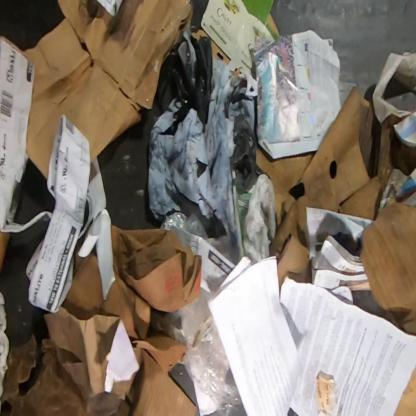cardboard: (24, 0, 193, 179), (256, 84, 394, 295), (62, 224, 202, 376), (43, 306, 197, 415), (360, 200, 415, 317), (201, 0, 276, 73), (191, 29, 230, 66), (391, 365, 415, 415), (267, 13, 280, 38)
soft_plastic: (147, 31, 263, 240), (166, 285, 248, 415), (160, 213, 208, 240)
